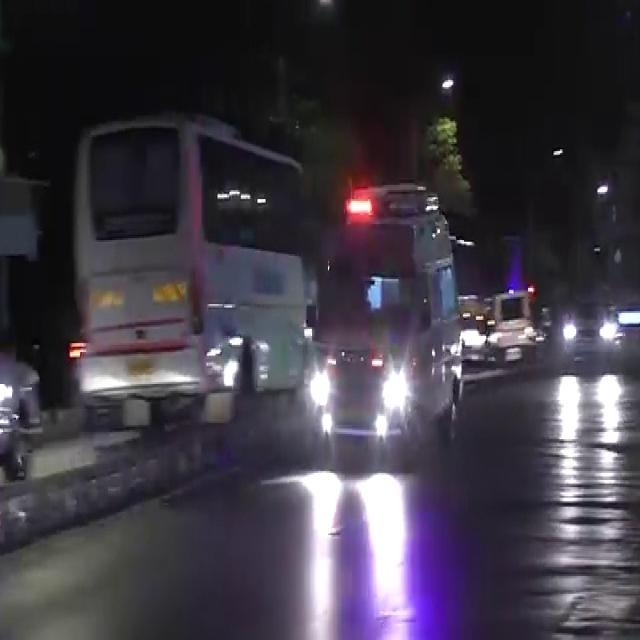ambulance: (306, 200, 472, 432)
